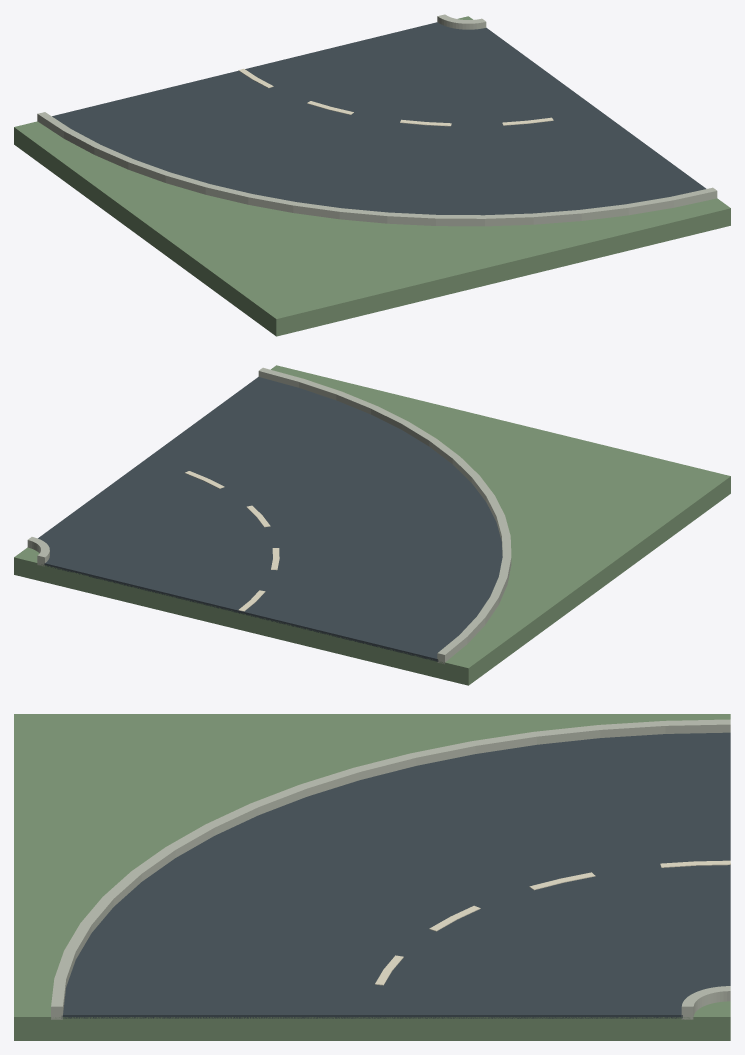
Rendered from road-right.glb.
3 renders of one model, top to bottom at view 1: azimuth 30°, elevation 25°; view 2: azimuth 150°, elevation 25°; view 3: azimuth 270°, elevation 25°, orthographic. The views are drawn at different scales.
Visible parts, largest first — view 1: RoadRight_asphalt, RoadRight_grass, RoadRight_curb, RoadRight_line; view 2: RoadRight_asphalt, RoadRight_grass, RoadRight_curb, RoadRight_line; view 3: RoadRight_asphalt, RoadRight_grass, RoadRight_curb, RoadRight_line.
Part boxes in pixels (x1=…): RoadRight_asphalt: x1=52, y1=22, x2=706, y2=215; RoadRight_grass: x1=14, y1=16, x2=730, y2=336; RoadRight_curb: x1=37, y1=14, x2=717, y2=226; RoadRight_line: x1=238, y1=68, x2=553, y2=126; RoadRight_asphalt: x1=38, y1=377, x2=502, y2=661; RoadRight_grass: x1=14, y1=365, x2=730, y2=685; RoadRight_curb: x1=27, y1=367, x2=511, y2=664; RoadRight_line: x1=185, y1=471, x2=279, y2=611; RoadRight_asphalt: x1=61, y1=732, x2=730, y2=1018; RoadRight_grass: x1=14, y1=714, x2=730, y2=1040; RoadRight_curb: x1=51, y1=719, x2=730, y2=1019; RoadRight_line: x1=375, y1=860, x2=730, y2=985.
Bounding box in the file's own units: 6 × 0.315 × 6.
